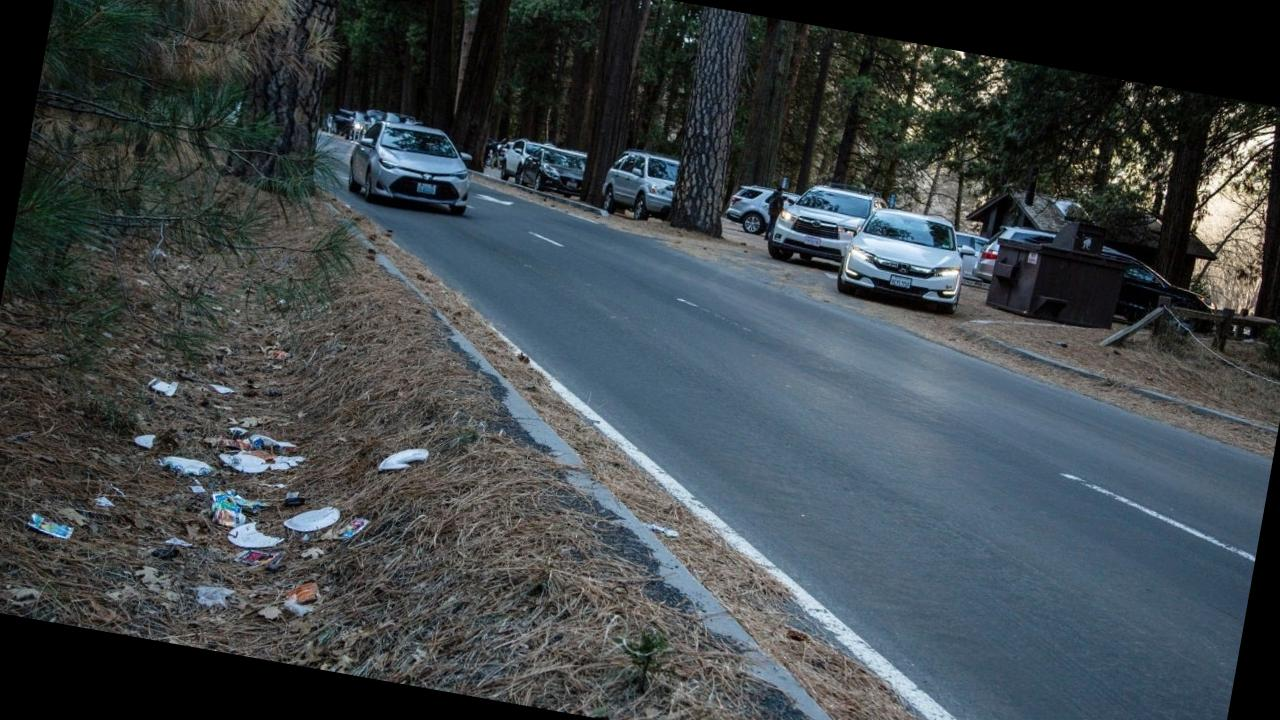road: (363, 198, 1272, 720)
trash: (219, 451, 305, 472), (228, 522, 283, 548), (284, 507, 339, 531), (158, 455, 212, 476), (28, 513, 71, 539), (287, 582, 318, 602), (338, 518, 367, 539)
